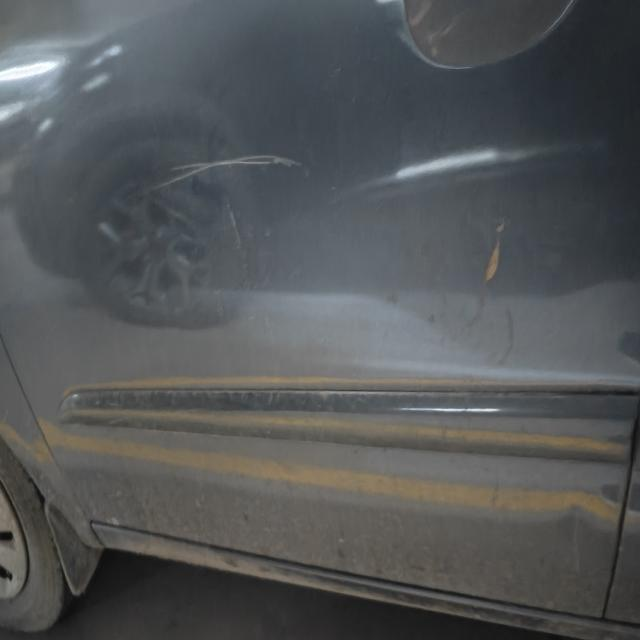scratch: (132, 142, 336, 202)
